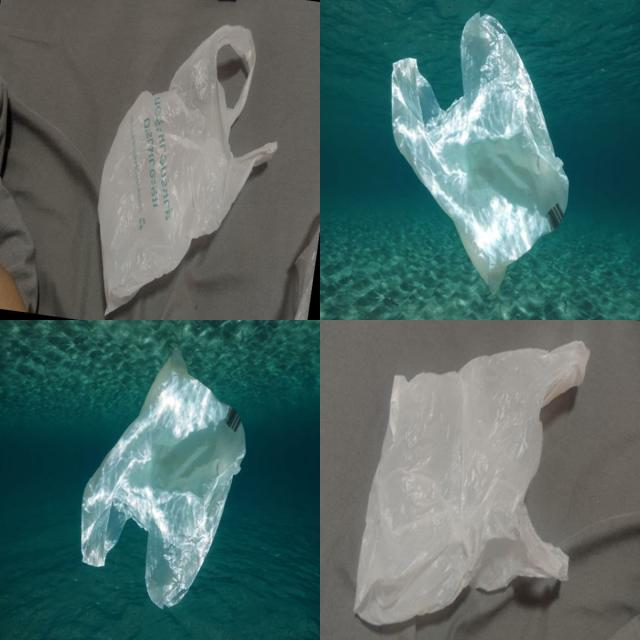Single-layer Plastic: (354, 341, 589, 625), (98, 25, 278, 314), (391, 14, 569, 292), (81, 350, 245, 608)
